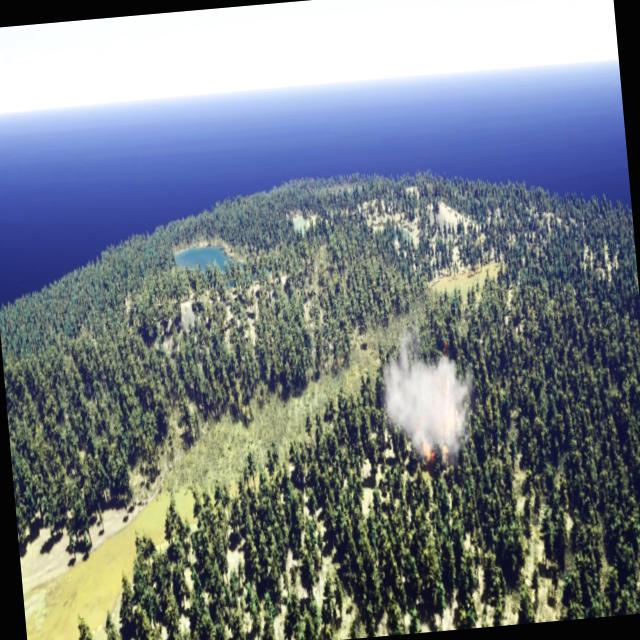smoke: (374, 319, 476, 466)
